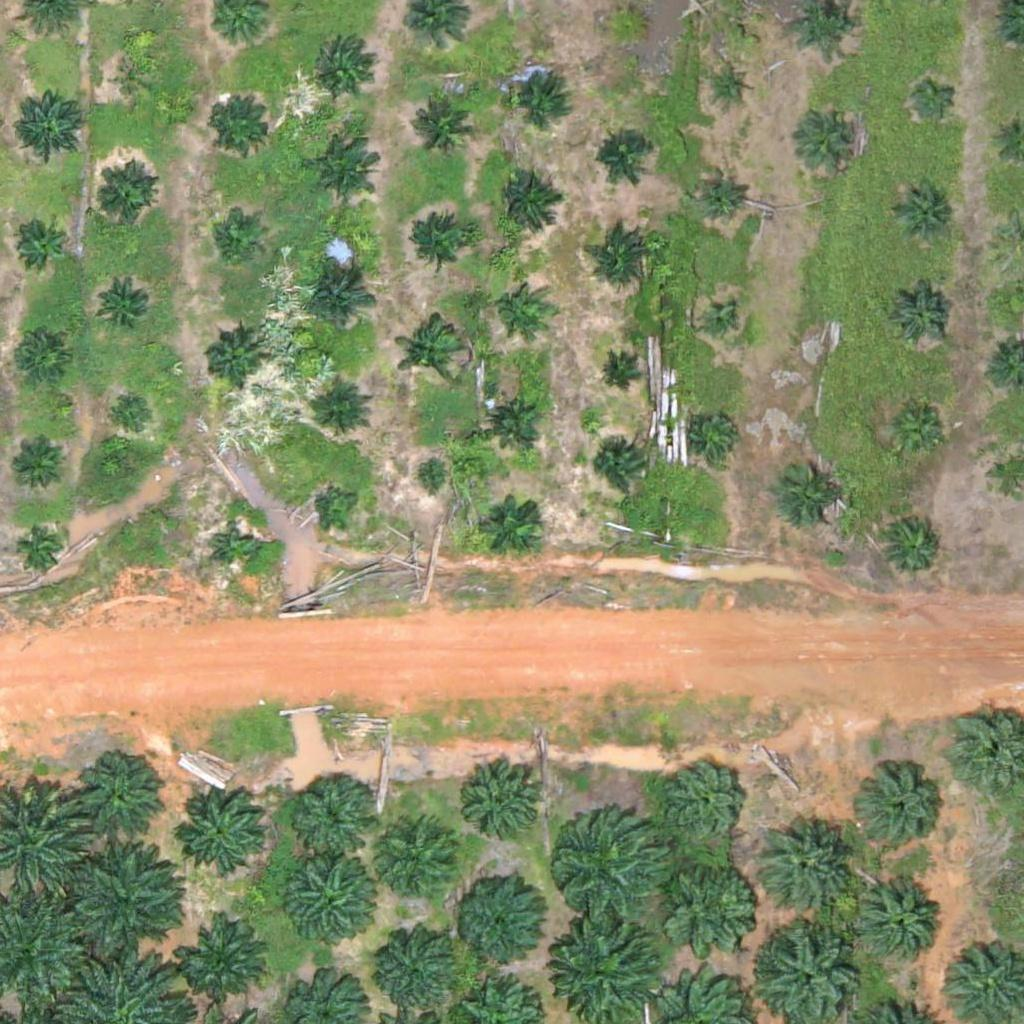Kelapa_Sawit: (549, 804, 674, 930), (59, 836, 184, 961), (756, 817, 856, 918), (561, 922, 661, 1023), (662, 849, 762, 949), (849, 877, 937, 965), (283, 861, 371, 949), (180, 914, 267, 1003), (454, 877, 541, 966), (286, 769, 373, 857), (373, 923, 460, 1011), (859, 766, 946, 854), (77, 759, 164, 847), (175, 785, 262, 873), (376, 815, 463, 903), (462, 758, 549, 846), (663, 762, 750, 850), (402, 214, 477, 290), (305, 133, 380, 209), (406, 88, 481, 164), (773, 456, 848, 532), (394, 316, 469, 392), (12, 81, 87, 156), (303, 265, 378, 340), (803, 107, 866, 170), (507, 63, 570, 126), (92, 165, 155, 228), (97, 272, 160, 335), (484, 493, 547, 556), (311, 383, 374, 446), (483, 388, 546, 451), (203, 331, 266, 394), (890, 179, 953, 242), (890, 284, 953, 347), (883, 516, 946, 579), (883, 398, 946, 461), (593, 225, 655, 288), (592, 125, 654, 188), (210, 95, 272, 158), (496, 171, 559, 233), (313, 37, 375, 100), (12, 219, 62, 270), (16, 332, 66, 383), (909, 71, 959, 122), (316, 481, 366, 532), (210, 523, 260, 574), (109, 390, 159, 441), (492, 280, 542, 330), (211, 213, 261, 263), (11, 443, 61, 493), (593, 443, 643, 493), (693, 410, 743, 460), (695, 169, 745, 219), (17, 524, 67, 574), (712, 67, 750, 105), (702, 305, 740, 343), (411, 459, 449, 497), (609, 7, 647, 45), (597, 356, 634, 394), (116, 61, 153, 99)
